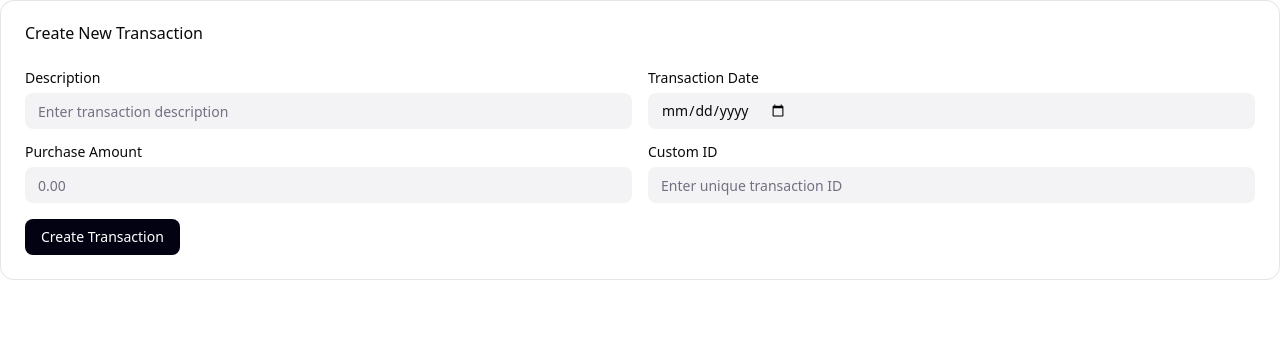
Scenario: TransactionForm › shows validation errors for empty fields
Click the button "Create Transaction" at x=102, y=237, box left=25, top=219, right=180, bottom=255
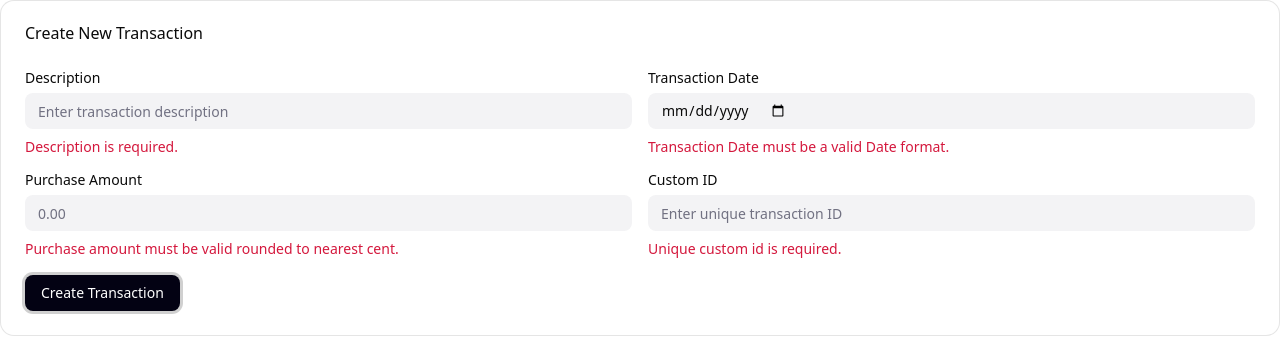
Now the text "Description is required." is shown, box left=25, top=137, right=178, bottom=156
Now the text "Transaction Date must be a valid Date format." is shown, box left=648, top=137, right=949, bottom=156
Now the text "Purchase amount must be valid rounded to nearest cent." is shown, box left=25, top=239, right=399, bottom=258
